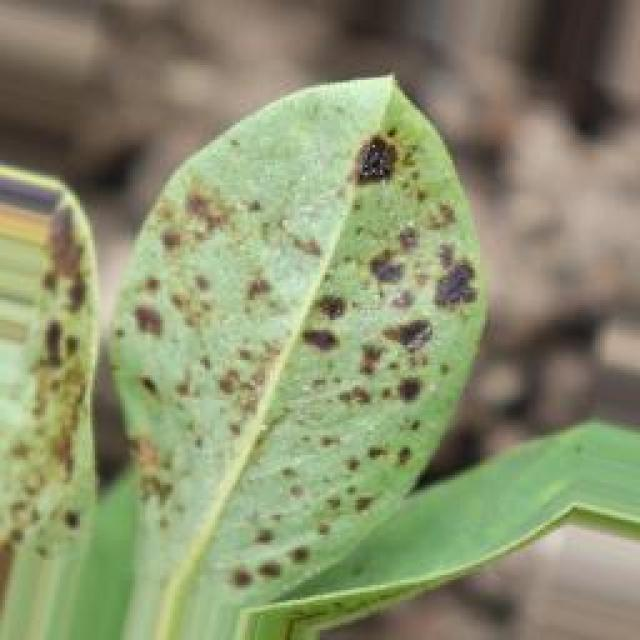Whitefly: (8, 52, 494, 580)
